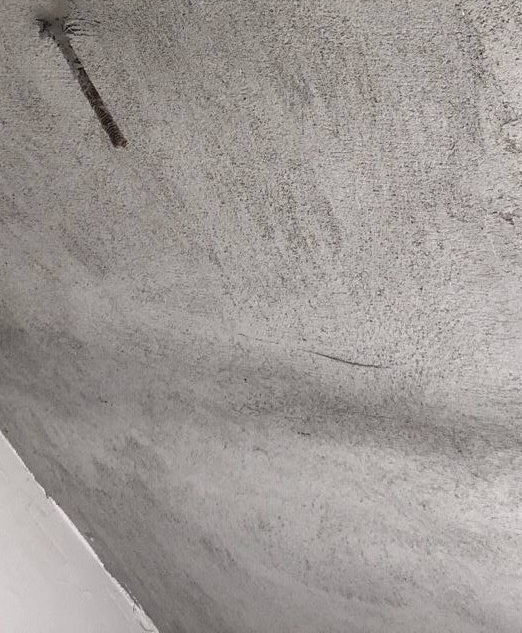Exposed reinforcement: (45, 20, 128, 148)
